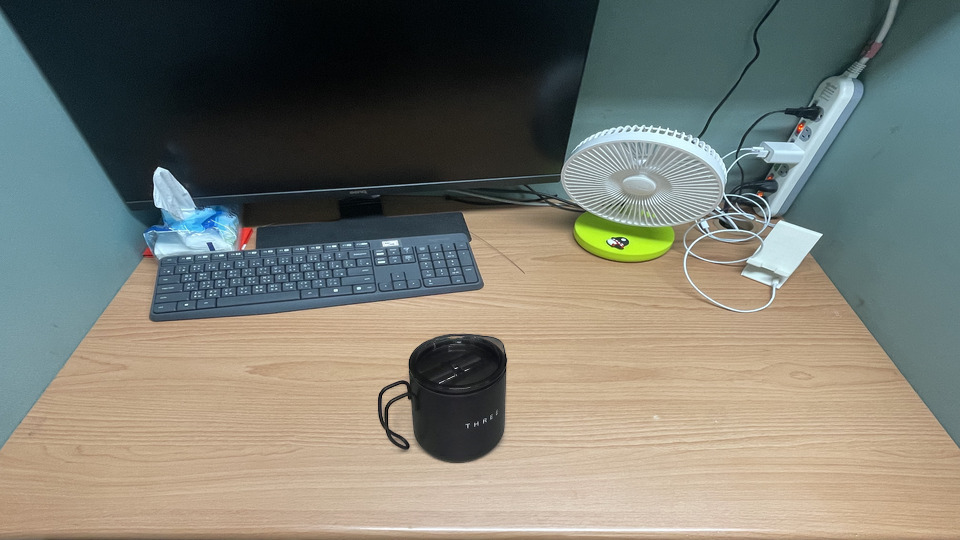blade: (394, 391, 477, 447)
round_grasp: (468, 352, 538, 401)
